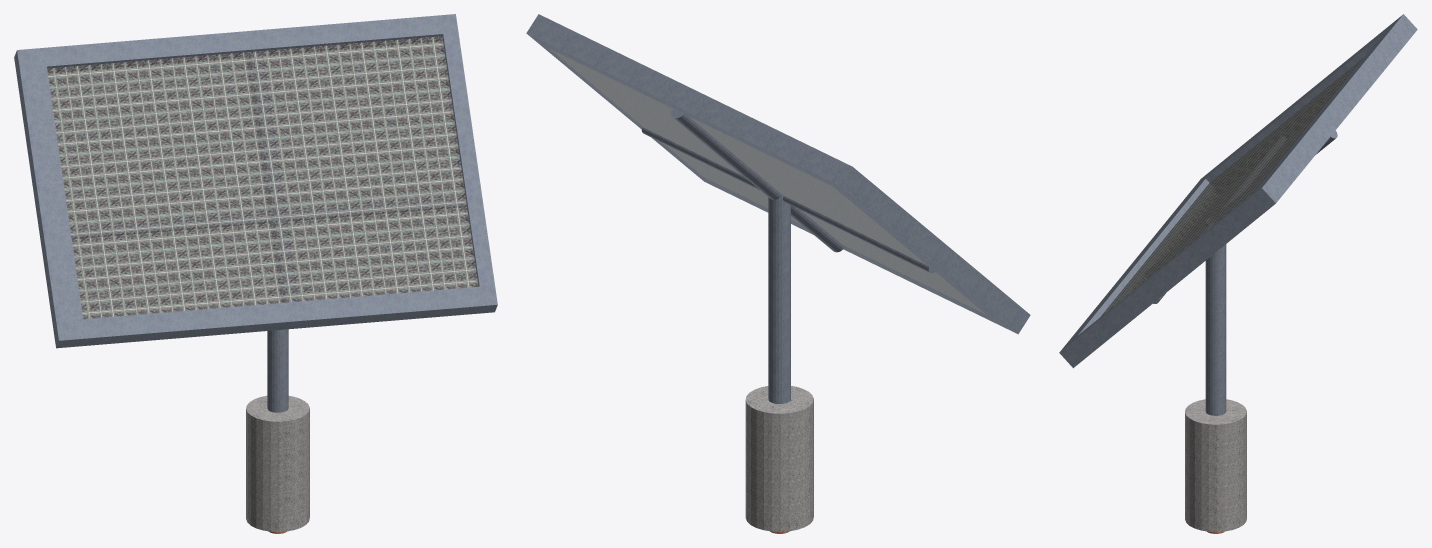
The model's file is Rubidium_SolarPanel 2.fbx.
3 views of the same model, side by side, from view 1: azimuth 30°, elevation 25°; view 2: azimuth 150°, elevation 25°; view 3: azimuth 270°, elevation 25° (orthographic). The views are drawn at different scales.
Visible parts, largest first — view 1: Rubidium_SolarPanel-SKP-Translucent_Glass_Block_Dark, Rubidium_SolarPanel-SKP-Metal_Rough, Rubidium_SolarPanel-SKP-Metal_Brushed, Rubidium_SolarPanel-SKP-Concrete_Aggregate_Gray; view 2: Rubidium_SolarPanel-SKP-Metal_Brushed, Rubidium_SolarPanel-SKP-Metal_Rough, Rubidium_SolarPanel-SKP-Concrete_Aggregate_Gray; view 3: Rubidium_SolarPanel-SKP-Metal_Brushed, Rubidium_SolarPanel-SKP-Concrete_Aggregate_Gray, Rubidium_SolarPanel-SKP-Translucent_Glass_Block_Dark, Rubidium_SolarPanel-SKP-Metal_Rough.
Part boxes in pixels (x1,y1,x2,y2): Rubidium_SolarPanel-SKP-Translucent_Glass_Block_Dark: [47, 36, 478, 319]; Rubidium_SolarPanel-SKP-Metal_Rough: [48, 42, 474, 318]; Rubidium_SolarPanel-SKP-Metal_Brushed: [14, 14, 497, 412]; Rubidium_SolarPanel-SKP-Concrete_Aggregate_Gray: [246, 395, 309, 531]; Rubidium_SolarPanel-SKP-Metal_Brushed: [526, 14, 1030, 403]; Rubidium_SolarPanel-SKP-Metal_Rough: [549, 48, 986, 314]; Rubidium_SolarPanel-SKP-Concrete_Aggregate_Gray: [745, 386, 813, 531]; Rubidium_SolarPanel-SKP-Metal_Brushed: [1059, 14, 1417, 415]; Rubidium_SolarPanel-SKP-Concrete_Aggregate_Gray: [1185, 399, 1246, 531]; Rubidium_SolarPanel-SKP-Translucent_Glass_Block_Dark: [1100, 58, 1362, 316]; Rubidium_SolarPanel-SKP-Metal_Rough: [1181, 117, 1314, 242].
Bounding box in the file's own units: 6.31 × 6.26 × 4.65.
